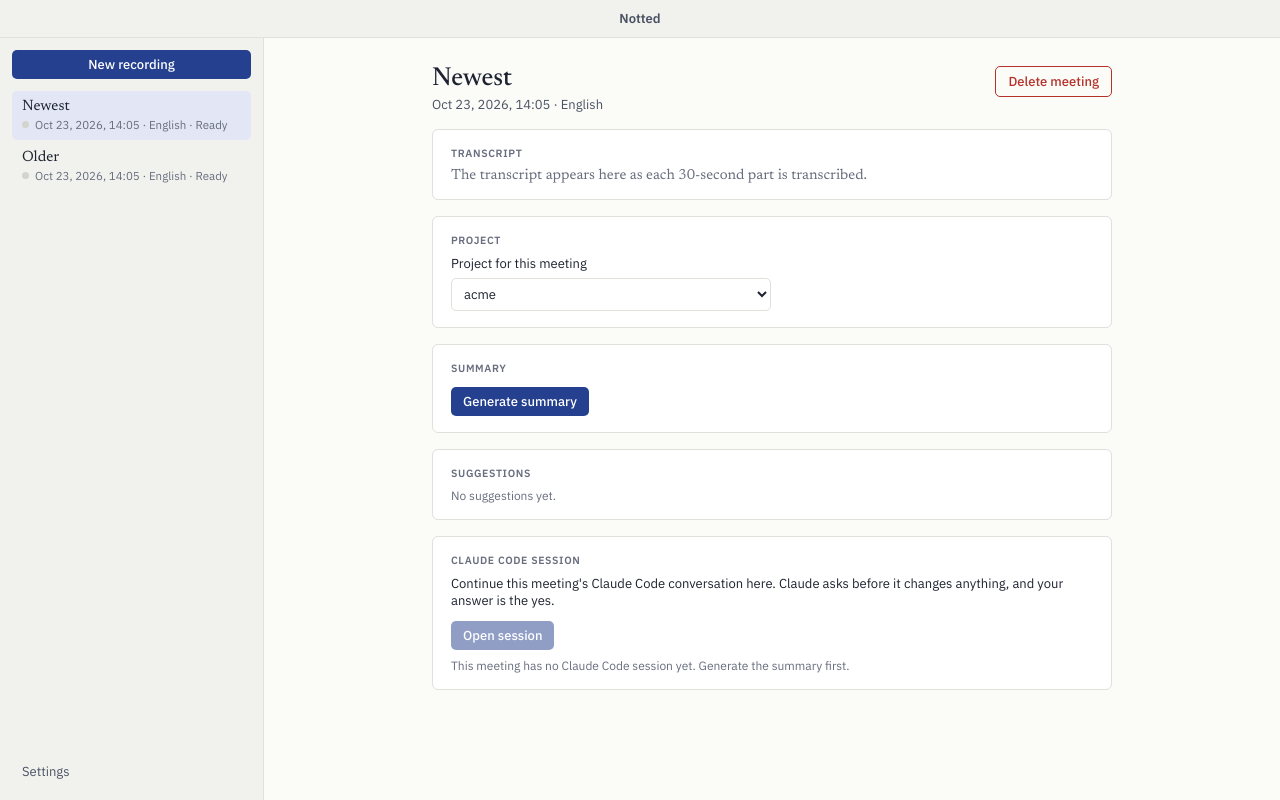
Scenario: deleting a meeting › the sidebar drops the meeting
The image size is (1280, 800).
Expected: the heading "Newest" is shown, [432,66,512,92]
Click the button "Delete meeting" at (1054, 82), box [995,66,1112,97]
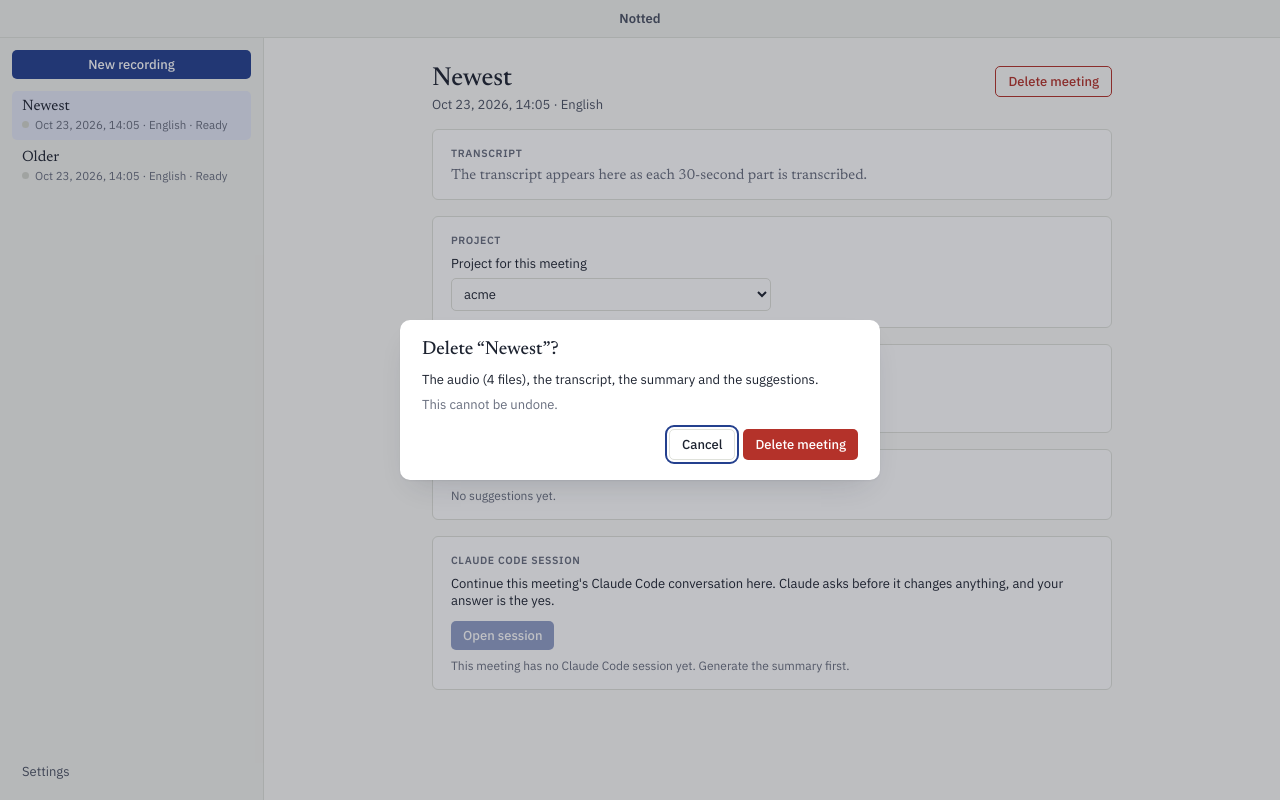
Click the button "Delete meeting" at (801, 444), box [743,429,858,460]
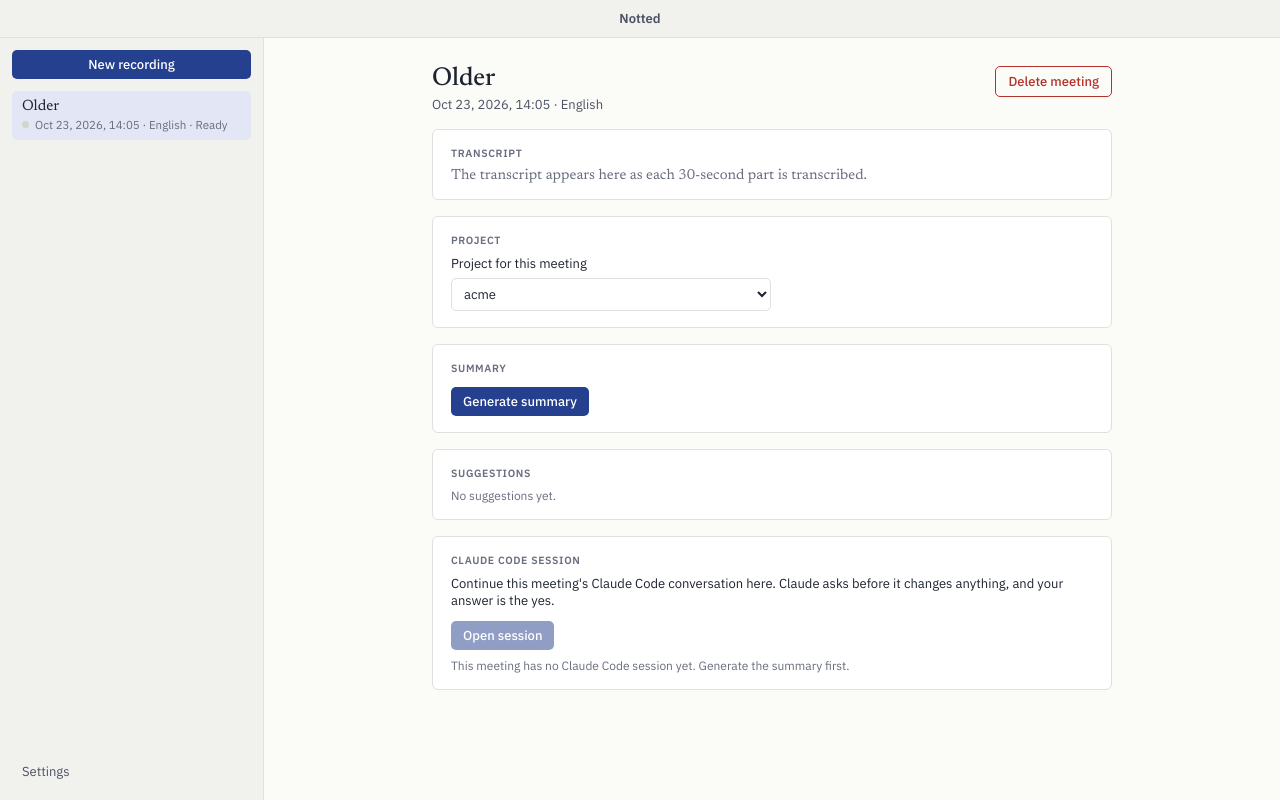
Expected: the text "Older" is shown, [22,99,59,114]
Expected: the button "Newest" is gone
